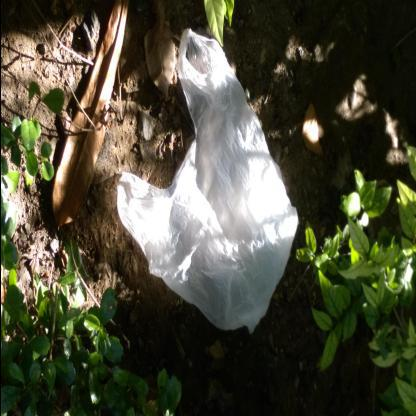plastik: (117, 26, 298, 334)
